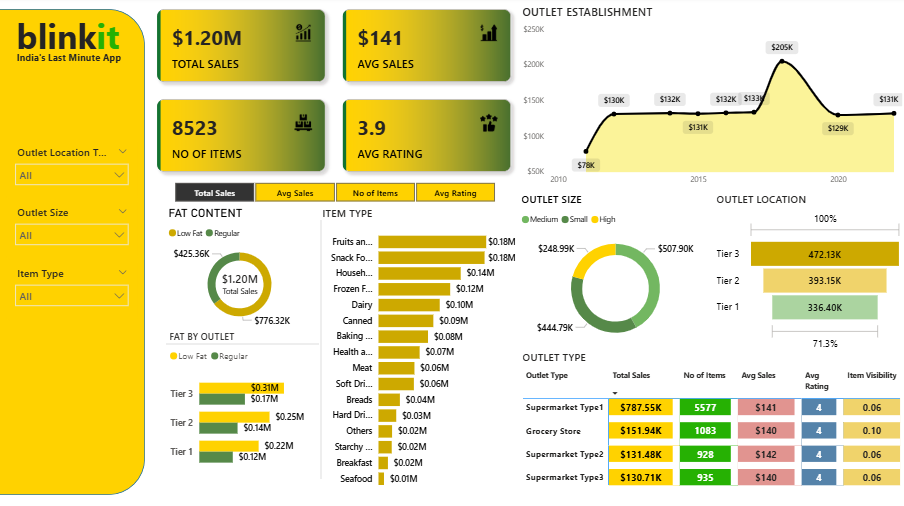

The page's visual inventory and layout, read from the dashboard file:
{"tool":"powerbi","page":{"name":"Blinkit Dashboard","canvas":[1280,720],"ordinal":3},"visuals":[{"type":"shape","box":[0,16.9,206.1,686.1],"z":0},{"type":"textbox","box":[1303.9,847.1,166.7,74.5],"z":1000},{"type":"textbox","box":[851,896.1,203.9,25.5],"z":2000},{"type":"cardVisual","fields":{"Data":["BlinkIT Grocery Data.Total Sales","BlinkIT Grocery Data.Avg Sales","BlinkIT Grocery Data.No of Items","BlinkIT Grocery Data.Avg Rating"]},"box":[206.1,0,535.1,265.4],"z":3000},{"type":"donutChart","title":"FAT CONTENT","fields":{"Y":["BlinkIT Grocery Data.Total Sales"],"Category":["BlinkIT Grocery Data.Item Fat Content"]},"box":[234.4,295.1,210.4,175.1],"z":4000},{"type":"slicer","fields":{"Values":["Metrics.Metrics"]},"box":[223.1,255.5,501.2,39.5],"z":5000},{"type":"cardVisual","fields":{"Data":["BlinkIT Grocery Data.Total Sales"]},"box":[285.2,369.9,110.1,63.5],"z":6000},{"type":"clusteredBarChart","title":"FAT BY OUTLET","fields":{"Y":["BlinkIT Grocery Data.Total Sales"],"Category":["BlinkIT Grocery Data.Outlet Location Type"],"Series":["BlinkIT Grocery Data.Item Fat Content"]},"box":[235.8,470.1,216,210.4],"z":7000},{"type":"shape","box":[235.8,456,216,67.8],"z":8000},{"type":"shape","box":[446.1,314.8,16.9,365.6],"z":9000},{"type":"barChart","title":"ITEM TYPE","fields":{"Y":["BlinkIT Grocery Data.Total Sales"],"Category":["BlinkIT Grocery Data.Item Type"]},"box":[451.8,295.1,282.4,408],"z":10000},{"type":"lineChart","title":"OUTLET ESTABLISHMENT","fields":{"Category":["BlinkIT Grocery Data.Outlet Establishment Year"],"Y":["BlinkIT Grocery Data.Total Sales"]},"box":[734.1,9.9,546.4,265.4],"z":11000},{"type":"donutChart","title":"OUTLET SIZE","fields":{"Y":["BlinkIT Grocery Data.Total Sales"],"Category":["BlinkIT Grocery Data.Outlet Size"]},"box":[732.7,275.3,275.3,224.5],"z":12000},{"type":"funnel","title":"OUTLET LOCATION","fields":{"Y":["Sum(BlinkIT Grocery Data.Sales)"],"Category":["BlinkIT Grocery Data.Outlet Location Type"]},"box":[1008,275.3,272.5,230.1],"z":13000},{"type":"pivotTable","title":"OUTLET TYPE","fields":{"Rows":["BlinkIT Grocery Data.Outlet Type"],"Values":["BlinkIT Grocery Data.Total Sales","BlinkIT Grocery Data.No of Items","BlinkIT Grocery Data.Avg Sales","BlinkIT Grocery Data.Avg Rating","Avg(BlinkIT Grocery Data.Item Visibility)"]},"box":[734.1,498.4,546.4,204.7],"z":14000},{"type":"textbox","box":[19.8,16.9,166.6,87.5],"z":15000},{"type":"textbox","box":[11.3,72,175.1,32.5],"z":16000},{"type":"slicer","fields":{"Values":["BlinkIT Grocery Data.Outlet Location Type"]},"box":[9.9,200.5,186.4,84.7],"z":17000},{"type":"slicer","fields":{"Values":["BlinkIT Grocery Data.Outlet Size"]},"box":[9.9,285.2,186.4,84.7],"z":18000},{"type":"slicer","fields":{"Values":["BlinkIT Grocery Data.Item Type"]},"box":[9.9,371.3,186.4,84.7],"z":19000}]}

Visuals, with their boxes in screenshot pixels (x1, y1, x2, y2), scaled from the page's 1280x720 canvas onto the 904x506 screenshot:
shape: crop(0, 12, 146, 494)
cardVisual - BlinkIT Grocery Data.Total Sales x BlinkIT Grocery Data.Avg Sales: crop(146, 0, 523, 187)
"FAT CONTENT" donutChart: crop(166, 207, 314, 330)
slicer - Metrics.Metrics: crop(158, 180, 512, 207)
cardVisual - BlinkIT Grocery Data.Total Sales: crop(201, 260, 279, 305)
"FAT BY OUTLET" clusteredBarChart: crop(167, 330, 319, 478)
shape: crop(167, 320, 319, 368)
shape: crop(315, 221, 327, 478)
"ITEM TYPE" barChart: crop(319, 207, 519, 494)
"OUTLET ESTABLISHMENT" lineChart: crop(518, 7, 903, 193)
"OUTLET SIZE" donutChart: crop(517, 193, 712, 351)
"OUTLET LOCATION" funnel: crop(712, 193, 903, 355)
"OUTLET TYPE" pivotTable: crop(518, 350, 903, 494)
textbox: crop(14, 12, 132, 73)
textbox: crop(8, 51, 132, 73)
slicer - BlinkIT Grocery Data.Outlet Location Type: crop(7, 141, 139, 200)
slicer - BlinkIT Grocery Data.Outlet Size: crop(7, 200, 139, 260)
slicer - BlinkIT Grocery Data.Item Type: crop(7, 261, 139, 320)
